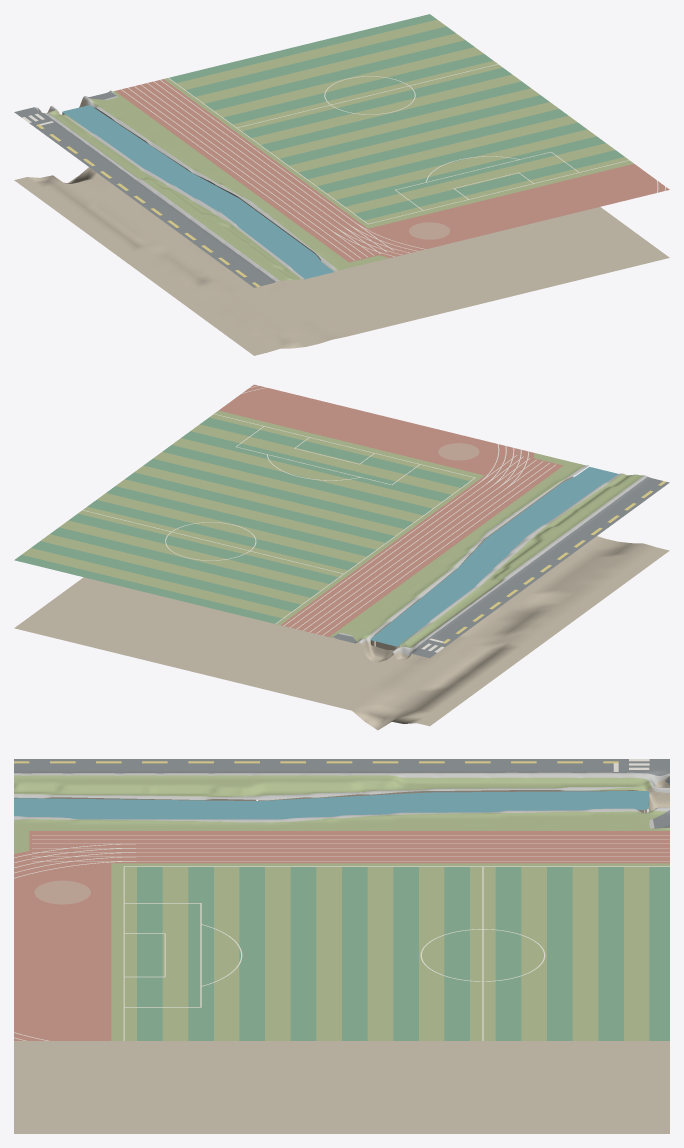
3 views of the same model, one above another, from view 1: azimuth 30°, elevation 25°; view 2: azimuth 150°, elevation 25°; view 3: azimuth 270°, elevation 25° (orthographic). The views are drawn at different scales.
Visible parts, largest first — view 1: s_-8_4__soil, s_-8_4__grass, s_-8_4__green_court, s_-8_4__red_court, s_-8_4__water, s_-8_4__asphalt, s_-8_4__white_marking, s_-8_4__stone_paving, s_-8_4__brick_paving; view 2: s_-8_4__soil, s_-8_4__grass, s_-8_4__green_court, s_-8_4__red_court, s_-8_4__water, s_-8_4__asphalt, s_-8_4__white_marking, s_-8_4__stone_paving, s_-8_4__brick_paving; view 3: s_-8_4__grass, s_-8_4__soil, s_-8_4__green_court, s_-8_4__red_court, s_-8_4__water, s_-8_4__asphalt, s_-8_4__white_marking, s_-8_4__stone_paving, s_-8_4__brick_paving, s_-8_4__yellow_marking, s_-8_4__shore_bank.
Boxes of the visible parts, bbox=[...] form: s_-8_4__soil: bbox=[14, 98, 669, 355]; s_-8_4__grass: bbox=[49, 19, 633, 280]; s_-8_4__green_court: bbox=[169, 14, 624, 220]; s_-8_4__red_court: bbox=[115, 79, 669, 262]; s_-8_4__water: bbox=[62, 105, 333, 279]; s_-8_4__asphalt: bbox=[14, 90, 275, 287]; s_-8_4__white_marking: bbox=[22, 64, 665, 260]; s_-8_4__stone_paving: bbox=[35, 96, 337, 281]; s_-8_4__brick_paving: bbox=[409, 222, 450, 239]; s_-8_4__soil: bbox=[14, 536, 669, 730]; s_-8_4__grass: bbox=[22, 410, 643, 647]; s_-8_4__green_court: bbox=[14, 417, 469, 623]; s_-8_4__red_court: bbox=[219, 384, 563, 636]; s_-8_4__water: bbox=[370, 467, 617, 646]; s_-8_4__asphalt: bbox=[333, 476, 669, 658]; s_-8_4__white_marking: bbox=[82, 385, 555, 652]; s_-8_4__stone_paving: bbox=[339, 465, 647, 655]; s_-8_4__brick_paving: bbox=[438, 443, 479, 460]; s_-8_4__grass: bbox=[14, 775, 669, 1040]; s_-8_4__soil: bbox=[14, 776, 669, 1133]; s_-8_4__green_court: bbox=[137, 867, 669, 1040]; s_-8_4__red_court: bbox=[14, 831, 669, 1040]; s_-8_4__water: bbox=[14, 791, 649, 819]; s_-8_4__asphalt: bbox=[14, 759, 669, 828]; s_-8_4__white_marking: bbox=[14, 759, 669, 1040]; s_-8_4__stone_paving: bbox=[14, 772, 669, 828]; s_-8_4__brick_paving: bbox=[34, 880, 90, 904]; s_-8_4__yellow_marking: bbox=[14, 761, 618, 763]; s_-8_4__shore_bank: bbox=[254, 790, 649, 812].
Bounding box in the file's own units: 128 × 25.25 × 128.
